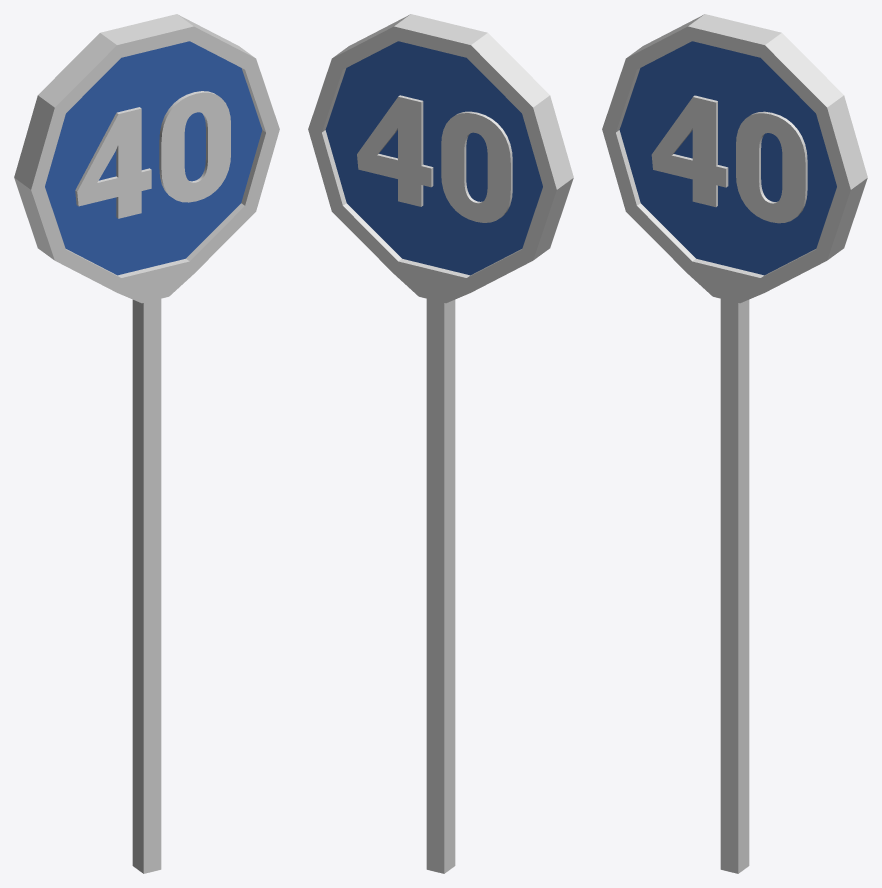
File: 44 Sign_board_1.fbx
3 renders of one model, left to right at view 1: azimuth 30°, elevation 25°; view 2: azimuth 150°, elevation 25°; view 3: azimuth 330°, elevation 25°, orthographic.
Visible parts, largest first — view 1: Sign_41; view 2: Sign_41; view 3: Sign_41.
Part boxes in pixels (x1,y1,x2,y2): Sign_41: (14,14,279,873); Sign_41: (308,14,573,873); Sign_41: (602,14,867,873).
Size of the model in its own units: 19.05 by 61.34 by 2.26.
